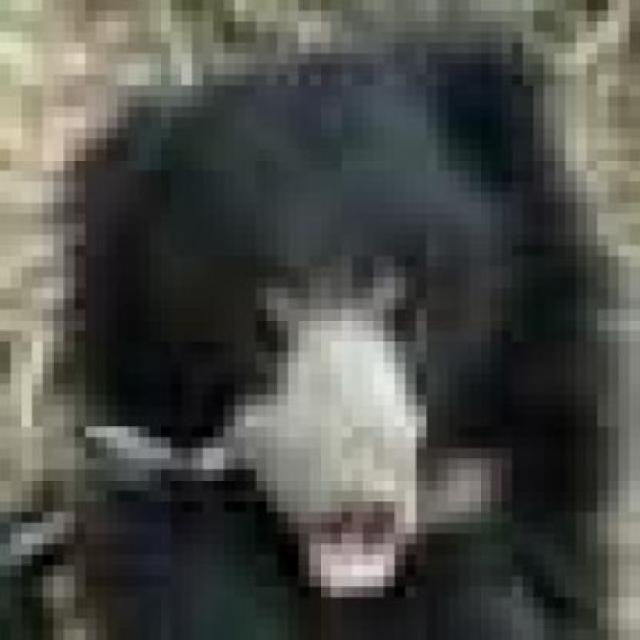Bear: (34, 19, 638, 638)
